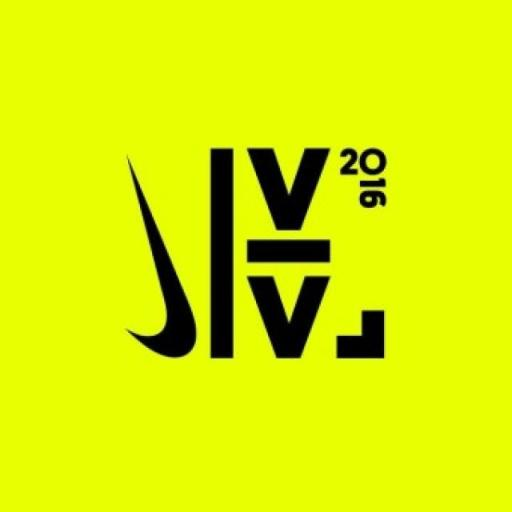Nike: (110, 148, 204, 362)
